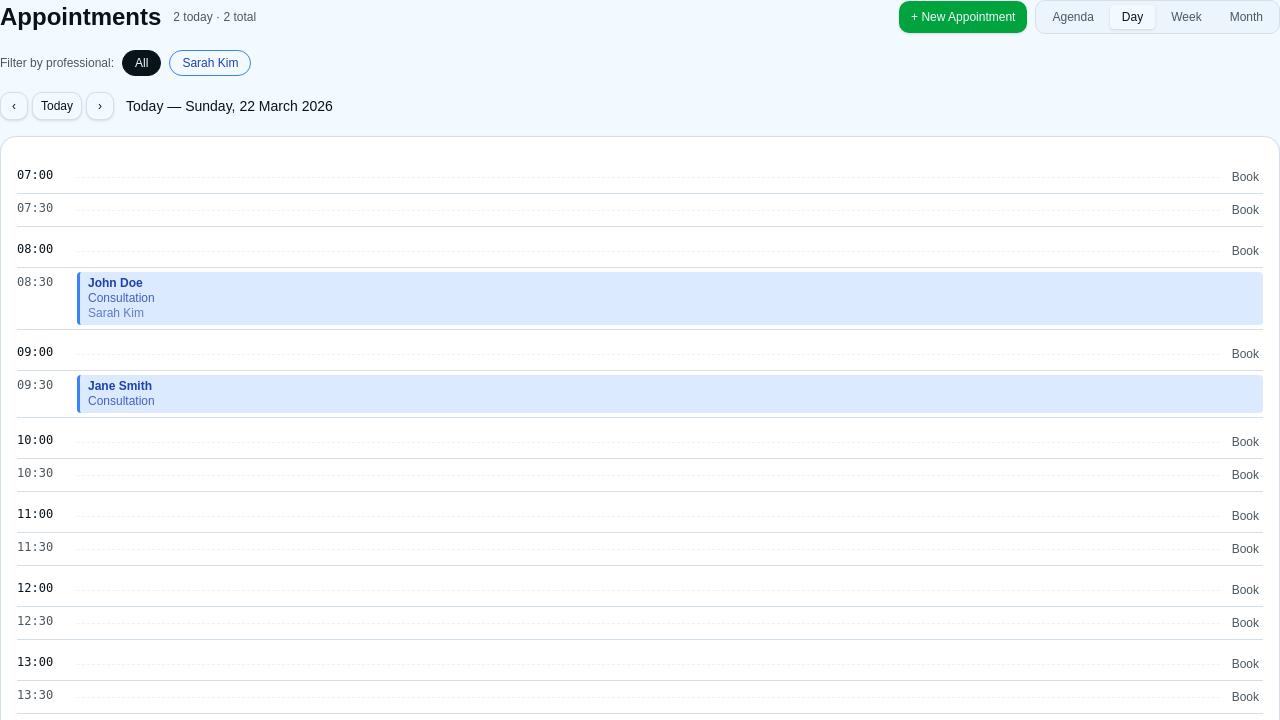
Test: AppointmentsPage — patient combobox (CC-108) › Selecting a patient from suggestions fills in the combobox
The image size is (1280, 720).
Click the button "Book" in the row of "07:00". click: {"x": 1245, "y": 177}
box: [1228, 169, 1263, 185]
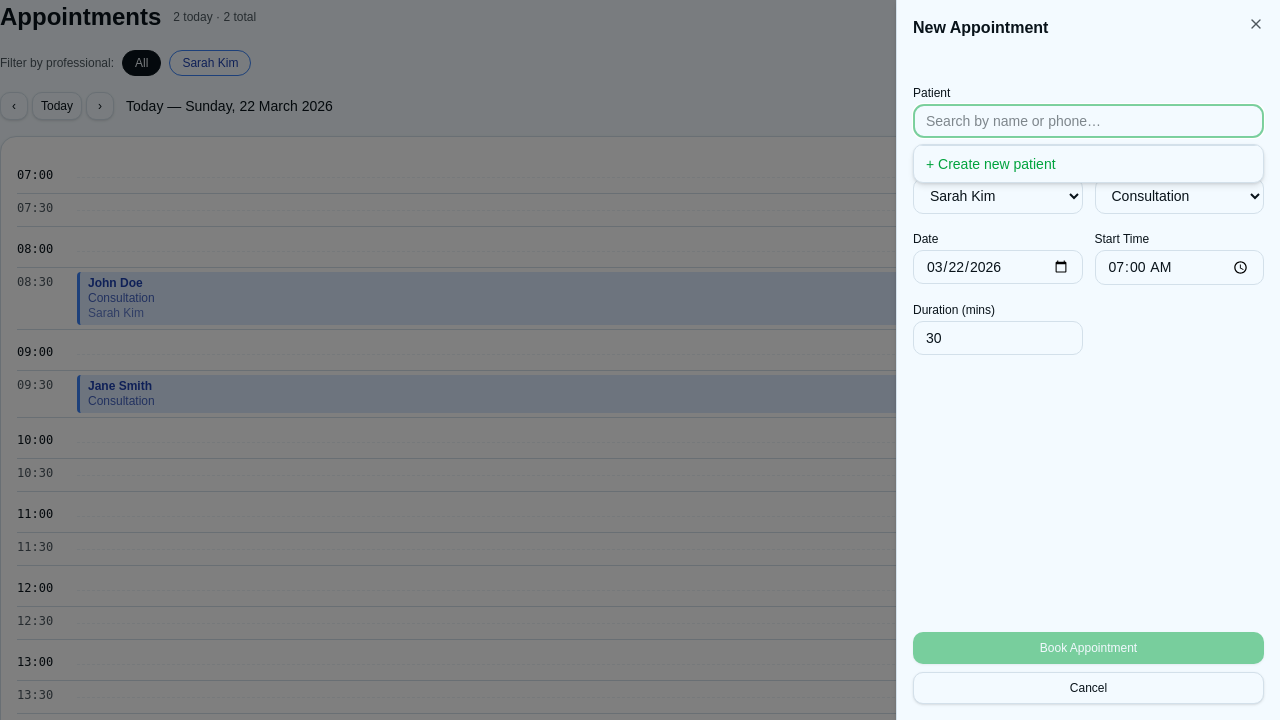
Type "Anna" into the field with placeholder "Search by name or phone…". click: {"x": 1088, "y": 121}
box: [913, 104, 1264, 138]
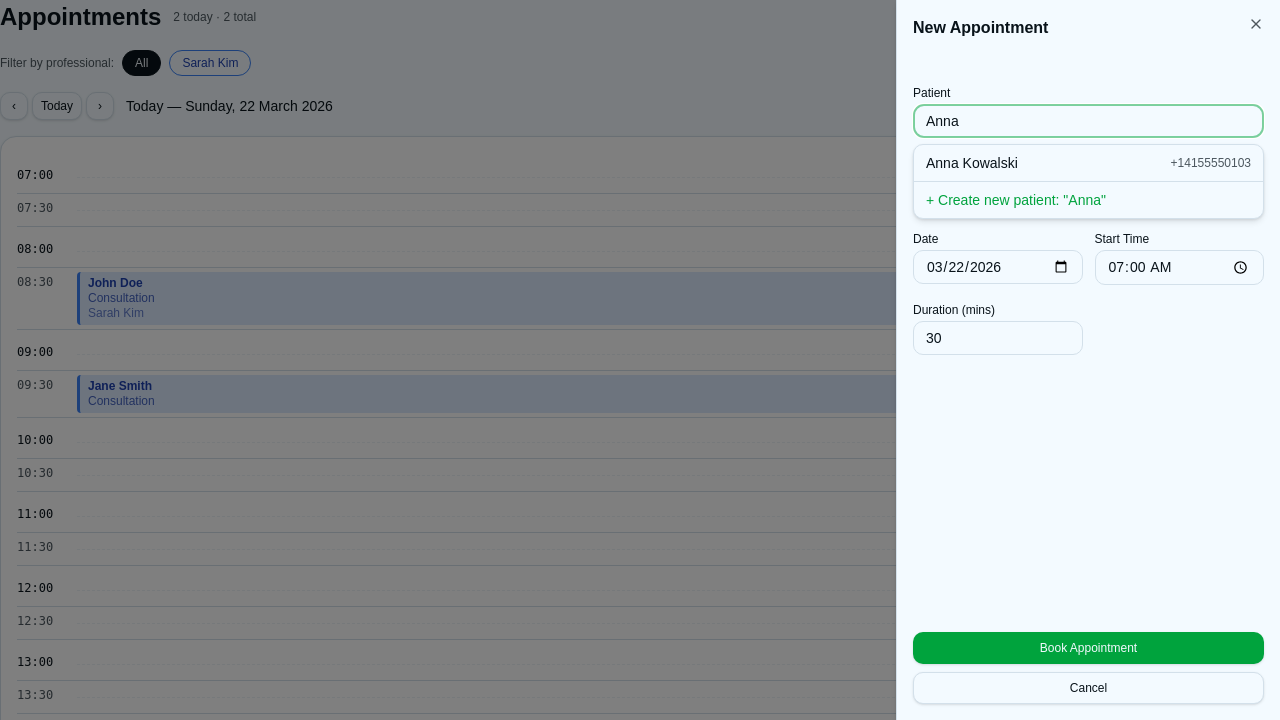
Press the mouse on the text "Anna Kowalski" at {"x": 972, "y": 163}, box [926, 153, 1018, 173]
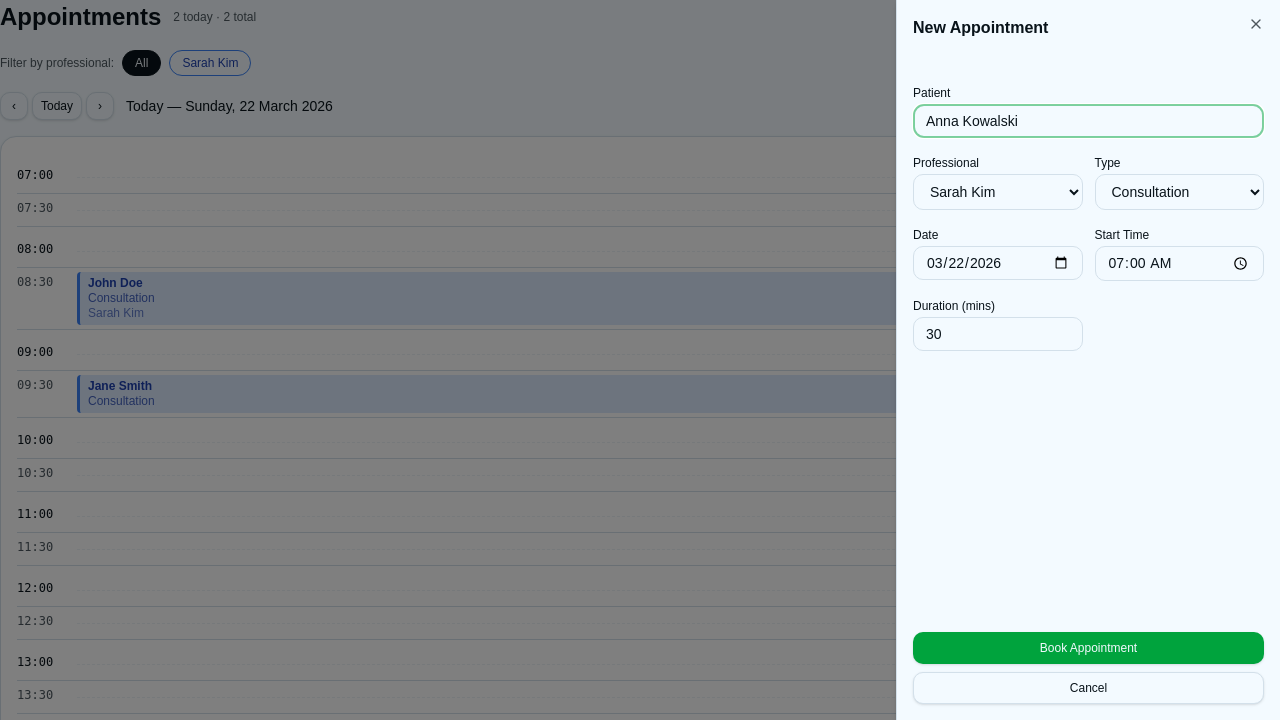
Now the field with placeholder "Search by name or phone…" holds "Anna Kowalski", box [913, 104, 1264, 138]
